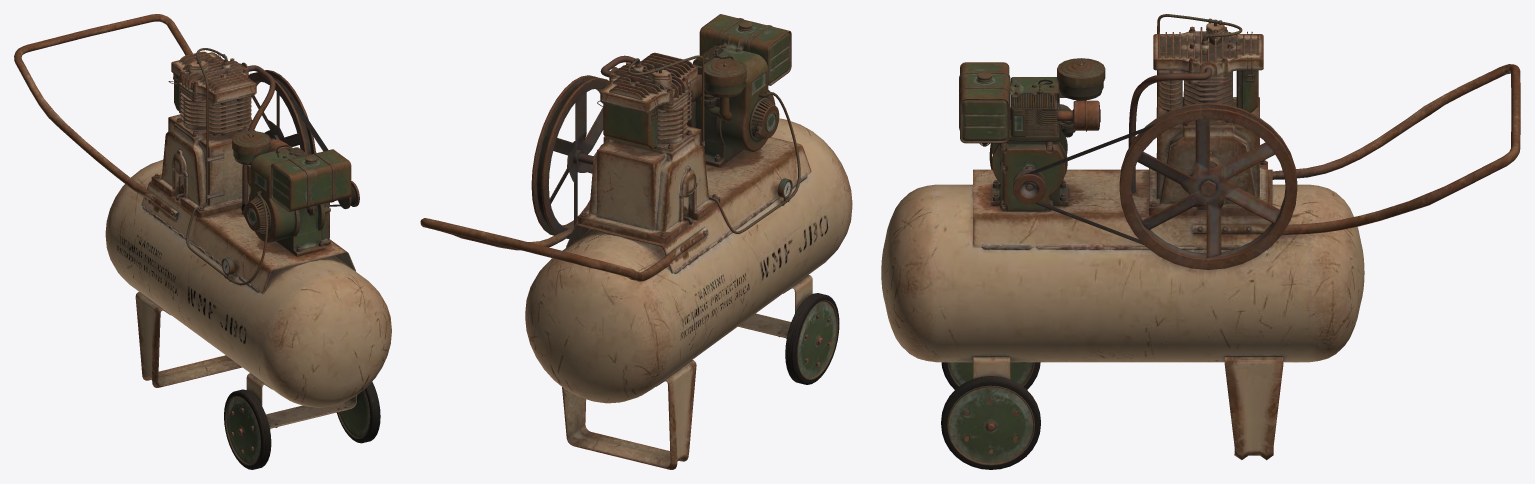
Rendered from old_military_compressor.glb.
3 renders of one model, left to right at view 1: azimuth 30°, elevation 25°; view 2: azimuth 150°, elevation 25°; view 3: azimuth 270°, elevation 25°, orthographic. The views are drawn at different scales.
Visible parts, largest first — view 1: old_military_compressor; view 2: old_military_compressor; view 3: old_military_compressor.
Part boxes in pixels (<box>): old_military_compressor: <box>14,14,391,469</box>; old_military_compressor: <box>420,14,852,469</box>; old_military_compressor: <box>881,14,1520,469</box>.
Bounding box in the file's own units: 0.5983 × 1.18 × 1.68.
Materials: 2 (2 with a texture image).
